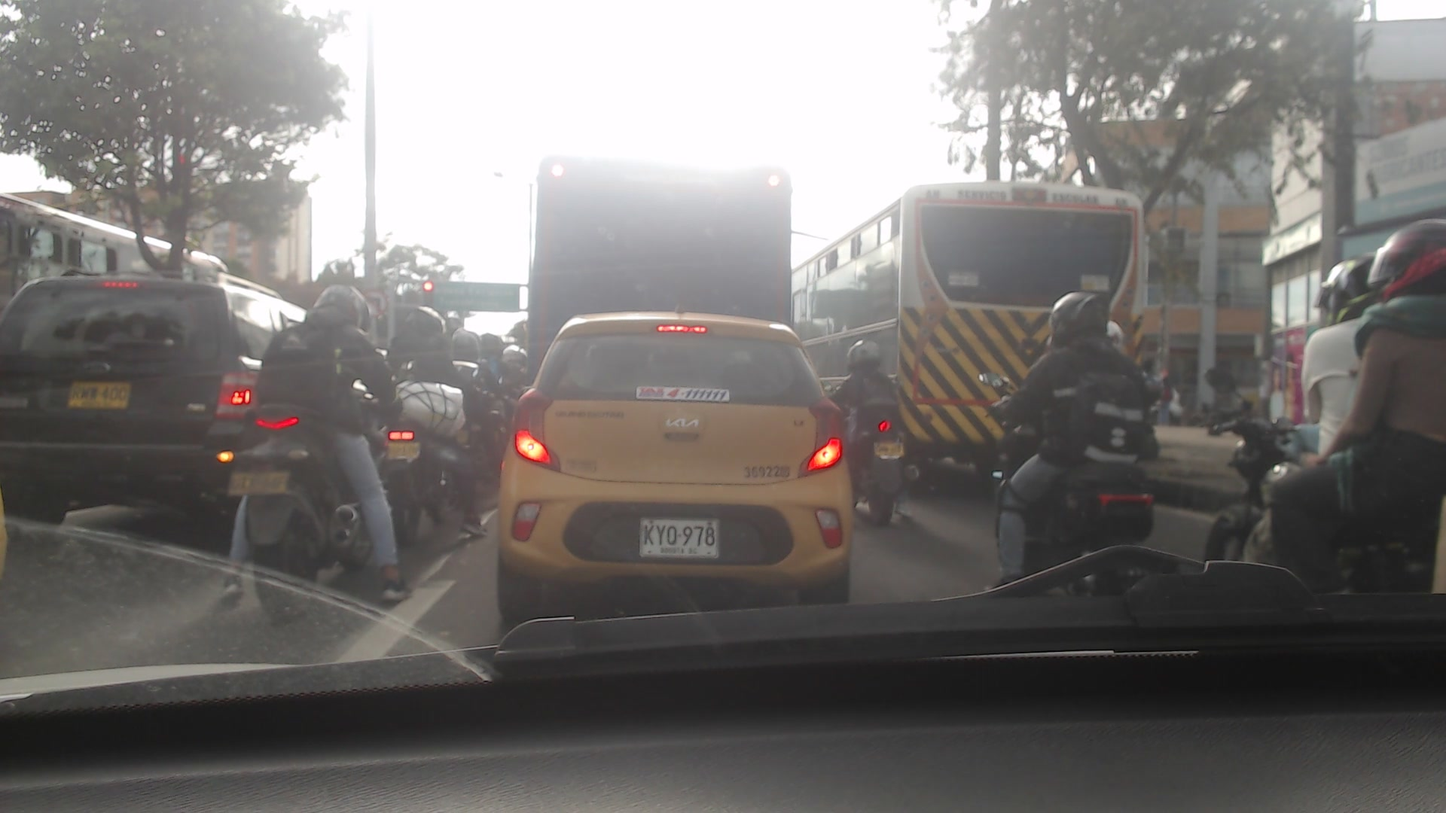bus: (786, 166, 1142, 484)
car: (502, 311, 850, 606), (0, 270, 313, 548)
motorcycle: (222, 405, 416, 617), (996, 449, 1164, 606), (844, 405, 911, 521)
person: (261, 276, 404, 580), (992, 290, 1155, 485), (1350, 217, 1444, 531), (1289, 262, 1381, 467), (386, 303, 483, 474), (353, 415, 493, 526), (831, 336, 915, 453)
truck: (523, 149, 801, 323)
